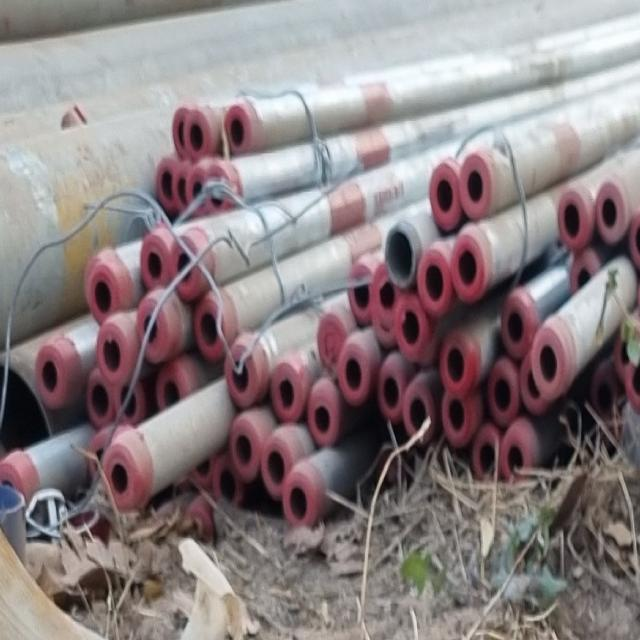pipe: (532, 328, 567, 403), (418, 249, 453, 319), (394, 291, 428, 363), (135, 299, 171, 366), (226, 416, 261, 483), (224, 343, 259, 410), (488, 358, 520, 430), (102, 443, 136, 510), (500, 292, 534, 359), (194, 295, 227, 362), (84, 261, 118, 326), (271, 361, 305, 426), (458, 154, 492, 219), (97, 322, 129, 388), (431, 163, 462, 231), (557, 190, 591, 252), (453, 238, 484, 303), (439, 332, 472, 393), (307, 385, 338, 449), (34, 346, 65, 410), (339, 344, 371, 405), (261, 434, 292, 496), (316, 313, 347, 374), (502, 426, 534, 484), (594, 184, 624, 245), (592, 366, 623, 425), (170, 235, 200, 295), (403, 384, 433, 444), (385, 227, 415, 286), (84, 370, 112, 433), (373, 266, 400, 330), (284, 473, 314, 530), (519, 356, 548, 414), (442, 393, 472, 448), (140, 235, 169, 290), (472, 427, 502, 480), (212, 453, 242, 505), (116, 372, 143, 427), (378, 364, 404, 420), (159, 360, 187, 411), (349, 264, 372, 326), (225, 105, 251, 158), (184, 108, 210, 161), (156, 154, 177, 219), (205, 168, 228, 216), (188, 165, 206, 218), (172, 107, 188, 160), (174, 165, 190, 214)
